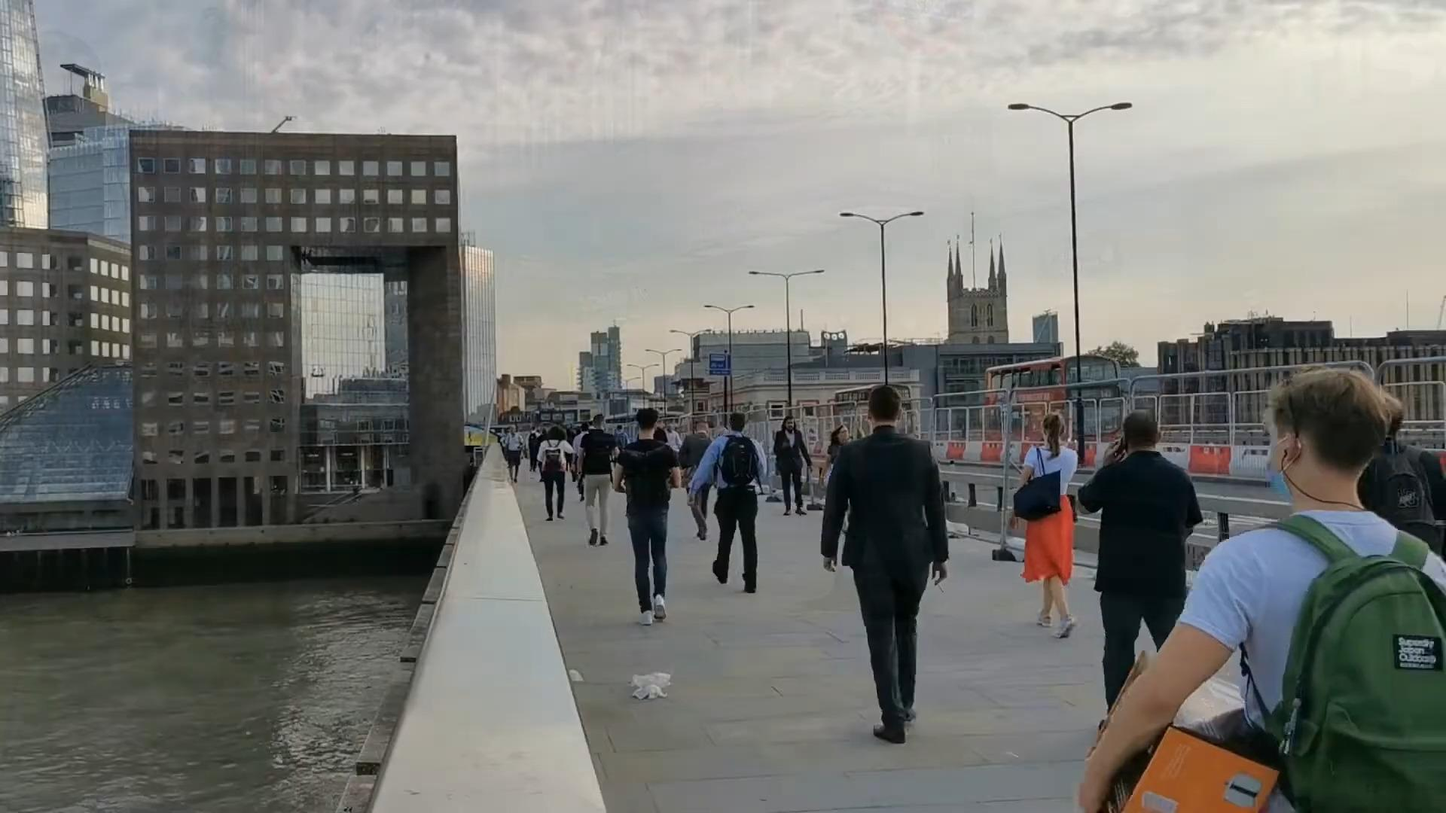no-helmet: (1264, 364, 1391, 511), (1122, 409, 1161, 456), (866, 384, 902, 431), (1041, 412, 1065, 446), (636, 408, 658, 437), (729, 412, 746, 433), (782, 416, 796, 434)
